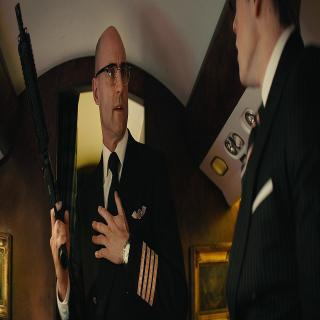gun: (14, 1, 70, 272)
